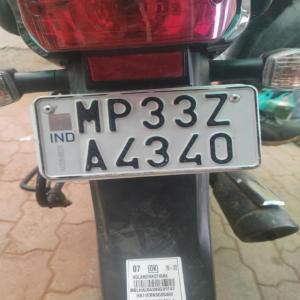Plate: (34, 86, 247, 177)
